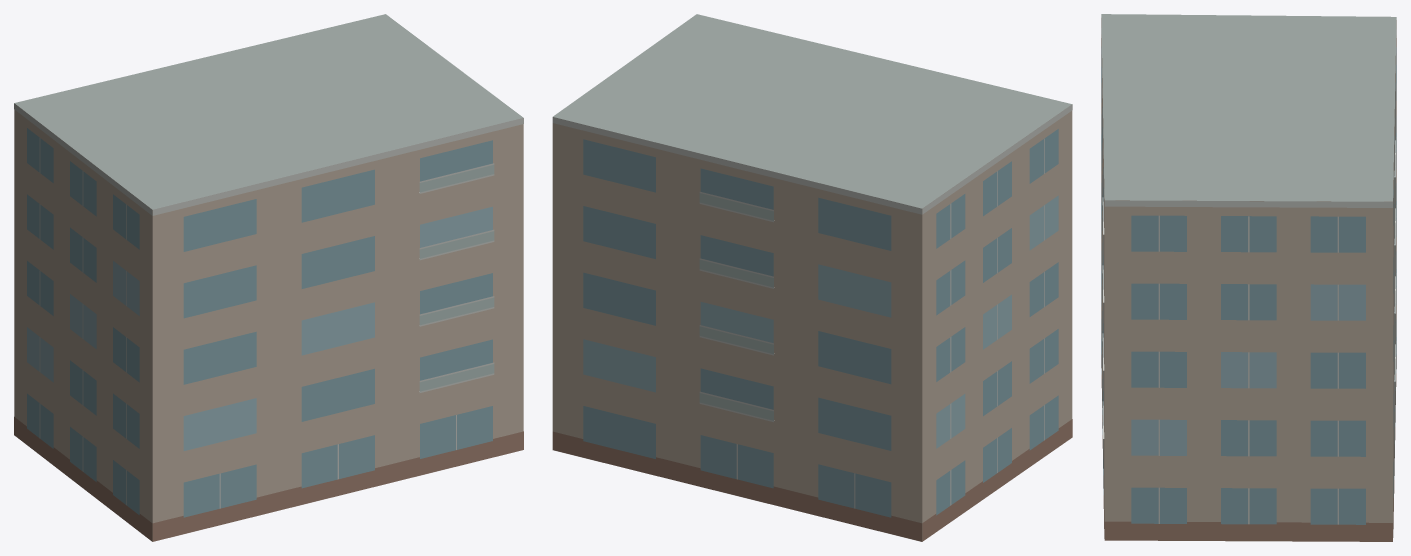
The model's file is survey-upis-32631380.glb.
3 views of the same model, side by side, from view 1: azimuth 30°, elevation 25°; view 2: azimuth 150°, elevation 25°; view 3: azimuth 270°, elevation 25° (orthographic). The views are drawn at different scales.
Parts seen in each view (by area): view 1: survey-upis-32631380.tmp; view 2: survey-upis-32631380.tmp; view 3: survey-upis-32631380.tmp.
Part boxes in pixels (box(x1,y1,x2,y2)): survey-upis-32631380.tmp: box(14, 14, 523, 541); survey-upis-32631380.tmp: box(552, 14, 1072, 541); survey-upis-32631380.tmp: box(1101, 14, 1396, 541).
Size of the model in its own units: 15.64 by 13.2 by 10.39.
